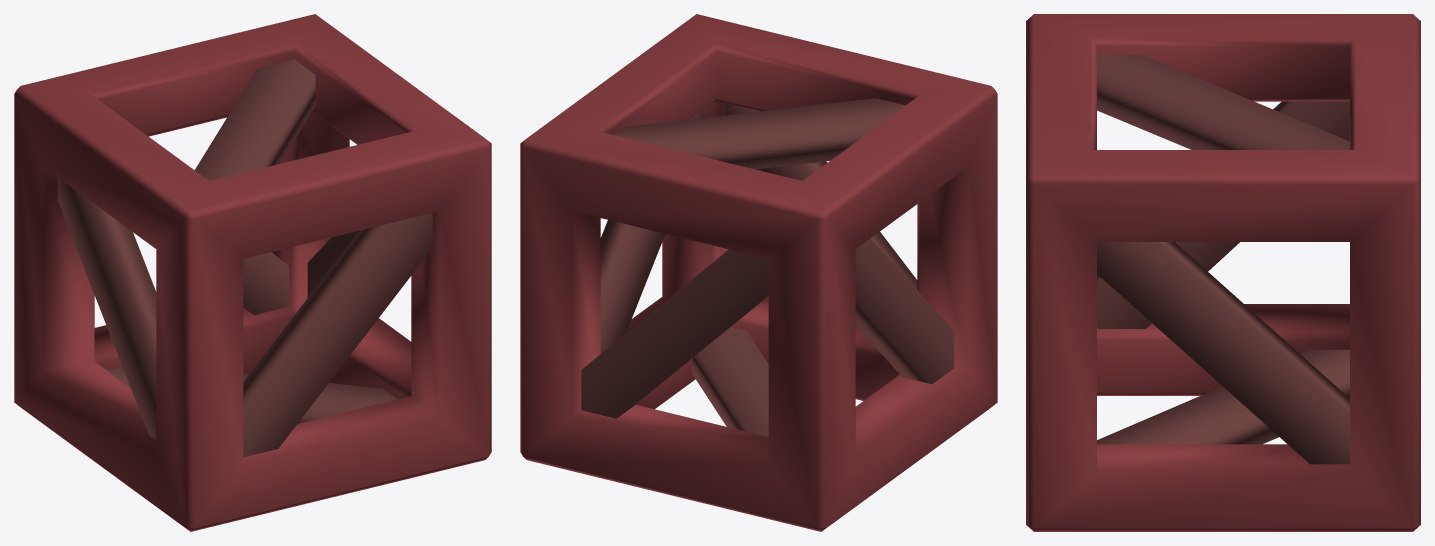
Rendered from gurd.fbx.
3 views of the same model, side by side, from view 1: azimuth 30°, elevation 25°; view 2: azimuth 150°, elevation 25°; view 3: azimuth 270°, elevation 25° (orthographic). The views are drawn at different scales.
Visible parts, largest first — view 1: pCube8; view 2: pCube8; view 3: pCube8.
Boxes of the visible parts, x1,y1,x2,y2 form: pCube8: (14,14,491,531); pCube8: (520,14,997,531); pCube8: (1026,14,1420,531).
Size of the model in its own units: 1 by 1 by 1.
